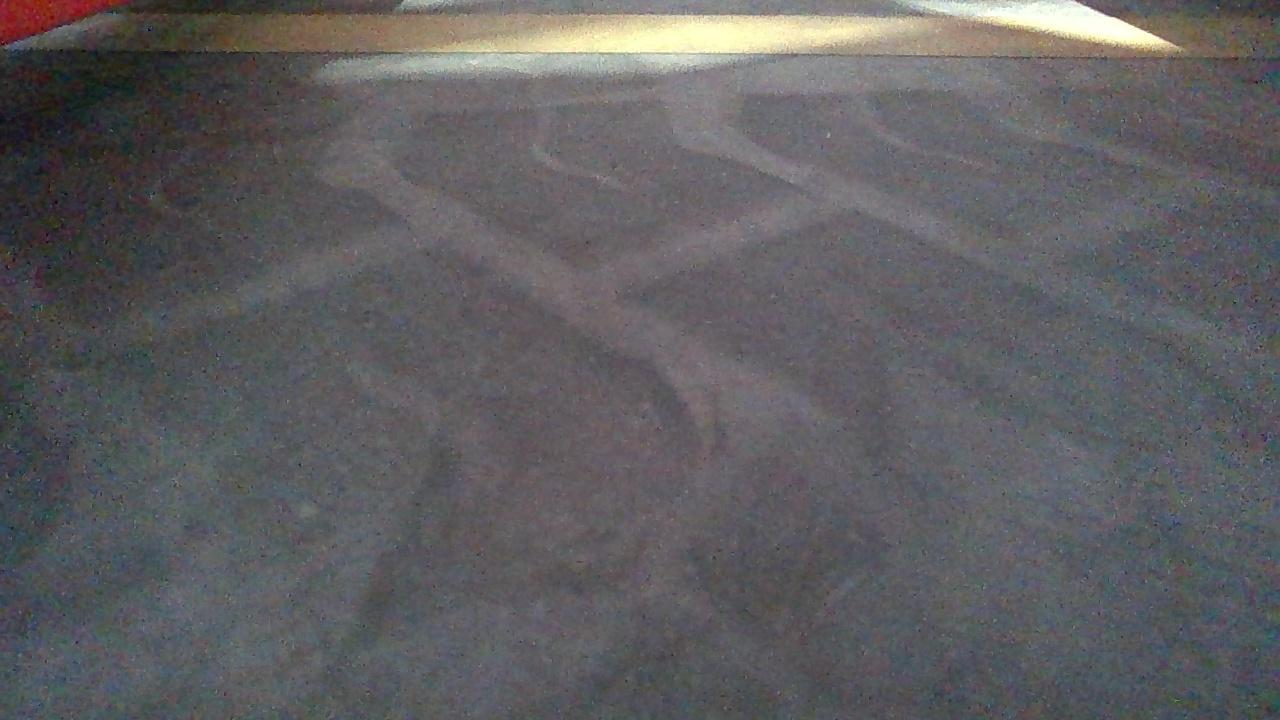yellow_line: (21, 8, 1280, 54)
